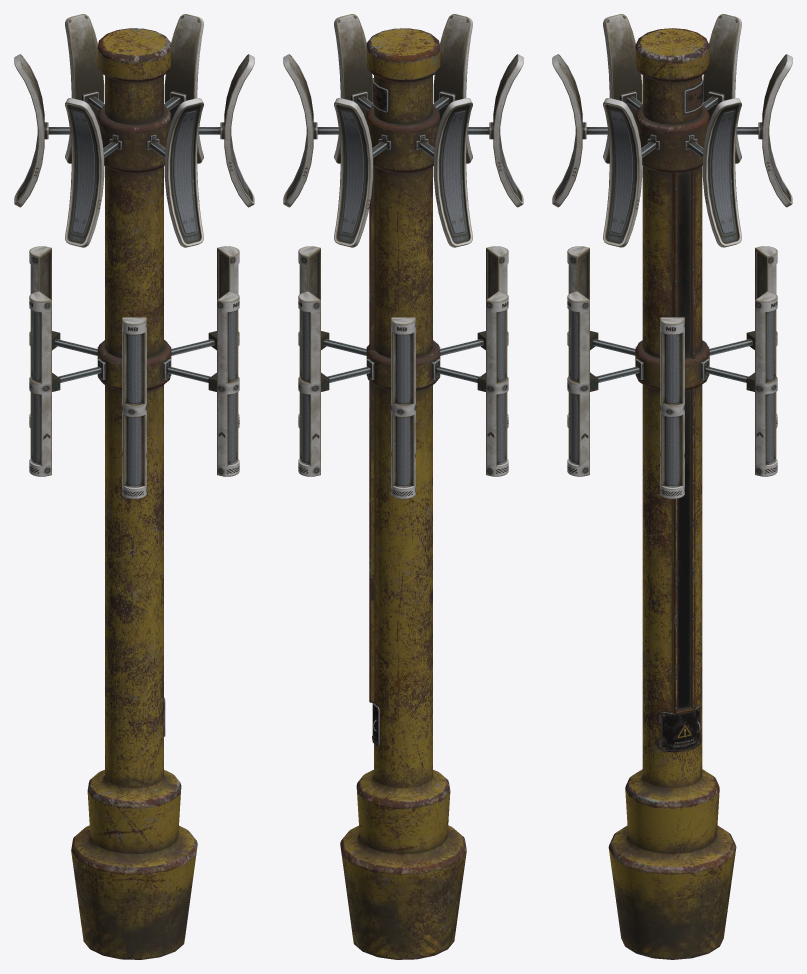
File: tele_tower2.glb
3 views of the same model, side by side, from view 1: azimuth 30°, elevation 25°; view 2: azimuth 150°, elevation 25°; view 3: azimuth 270°, elevation 25° (orthographic).
Parts seen in each view (by area): view 1: 01_01_0, 02_02_0; view 2: 01_01_0, 02_02_0; view 3: 01_01_0, 02_02_0.
Part boxes in pixels (x1,y1,x2,y2): 01_01_0: (14, 14, 254, 959); 02_02_0: (29, 246, 239, 736); 01_01_0: (283, 14, 523, 959); 02_02_0: (298, 78, 508, 745); 01_01_0: (552, 14, 792, 959); 02_02_0: (567, 79, 777, 752).
Bounding box in the file's own units: 2.48 × 10.23 × 2.49.
Materials: 2 (2 with a texture image).
